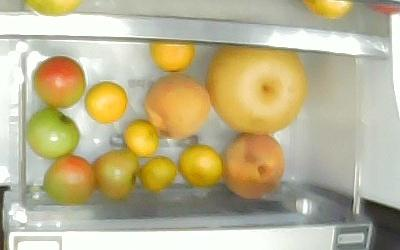peach: (142, 70, 210, 139), (218, 131, 285, 198)
pear: (205, 50, 306, 134)
tangerine: (176, 142, 223, 187), (83, 80, 127, 124), (121, 118, 159, 156), (138, 154, 177, 191), (148, 42, 195, 72)
tomato: (30, 54, 86, 108), (25, 107, 80, 159), (89, 147, 141, 200), (43, 154, 96, 205)
